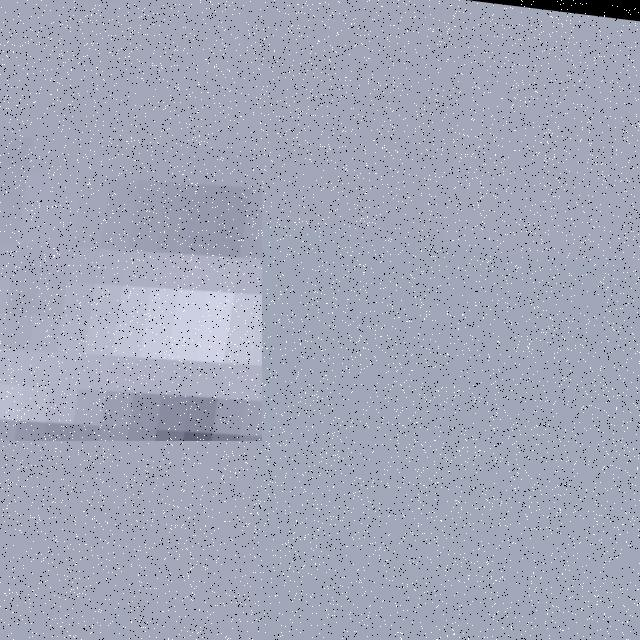drone: (0, 0, 262, 441)
